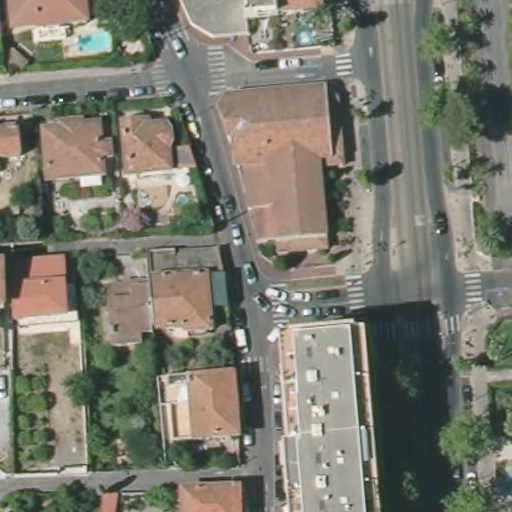pool: (76, 29, 114, 54)
